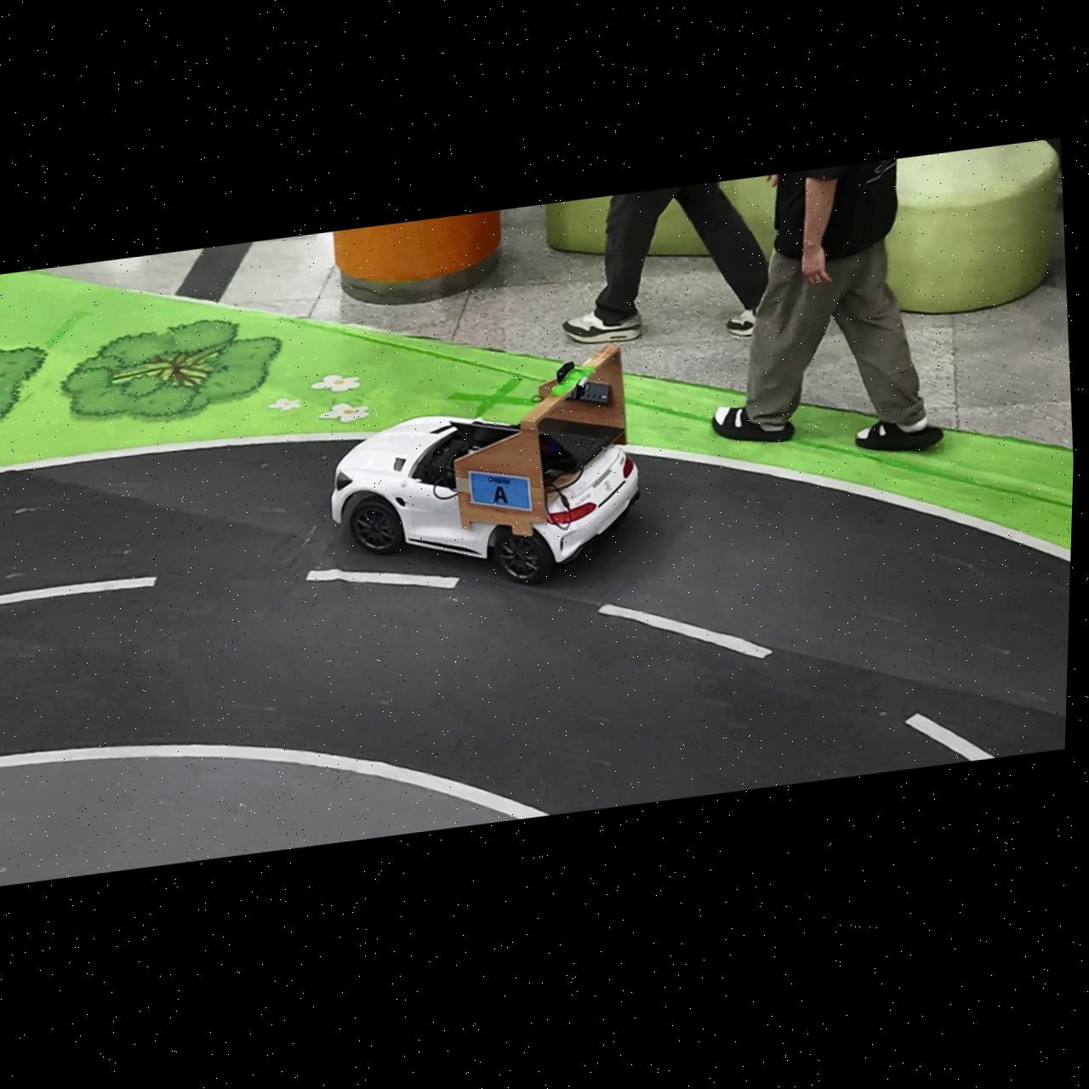broken_line: (598, 605, 772, 658), (0, 577, 156, 605), (905, 714, 994, 761), (306, 569, 459, 589)
